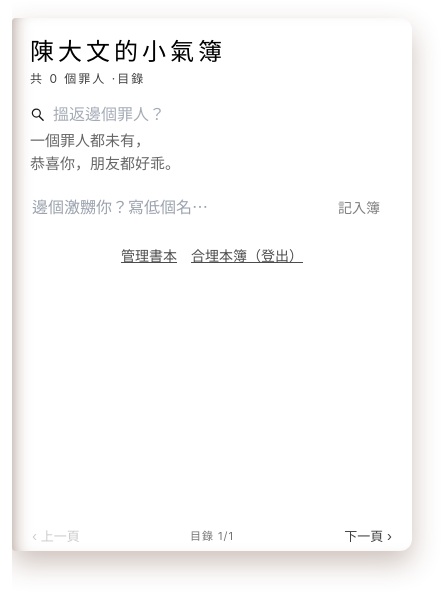
an empty book can still reach 書末 — the old friends-only check dead-ended here
The width and height of the screenshot is (443, 594).
Expected: the text "目錄 1/1" is shown, [190,528,234,544]
Click the button "下一頁 ›".
click(368, 536)  # box [340,524,396,548]
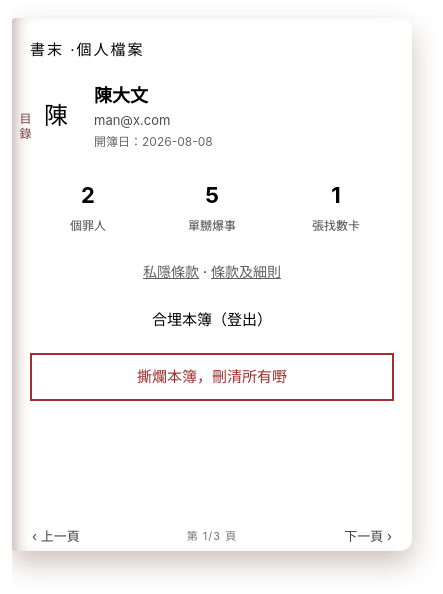
Expected: the text "書末 ·個人檔案" is shown, [30,40,144,59]
